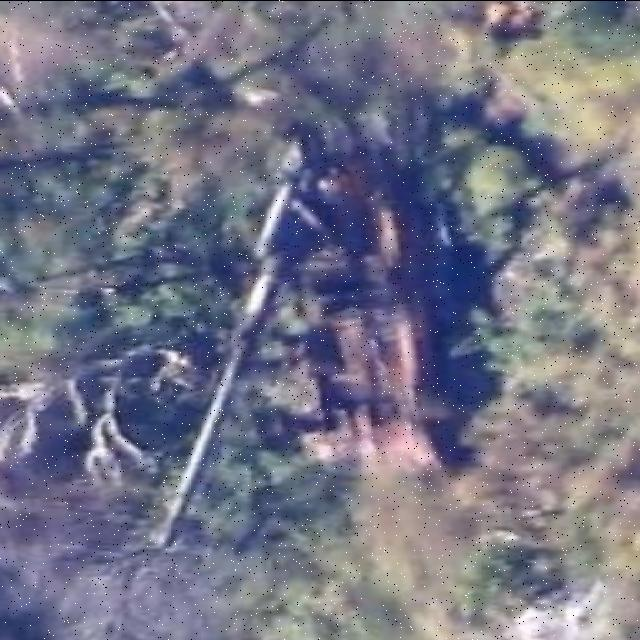ART: (146, 144, 464, 552)
